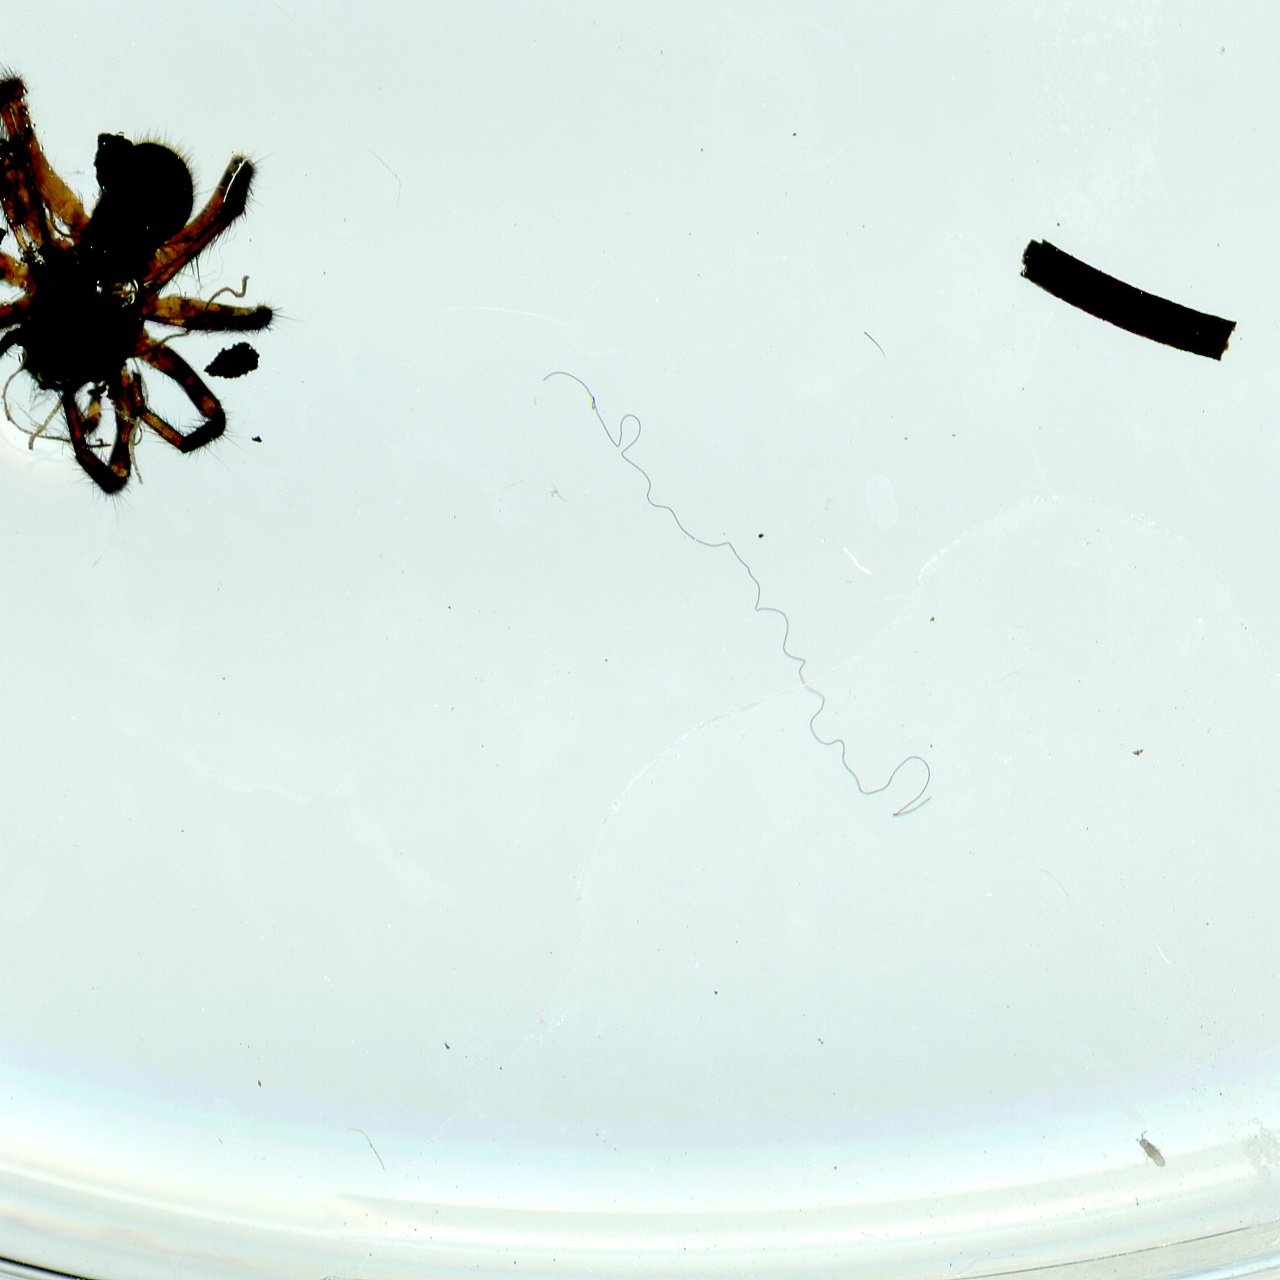arthropod: (0, 57, 275, 502)
